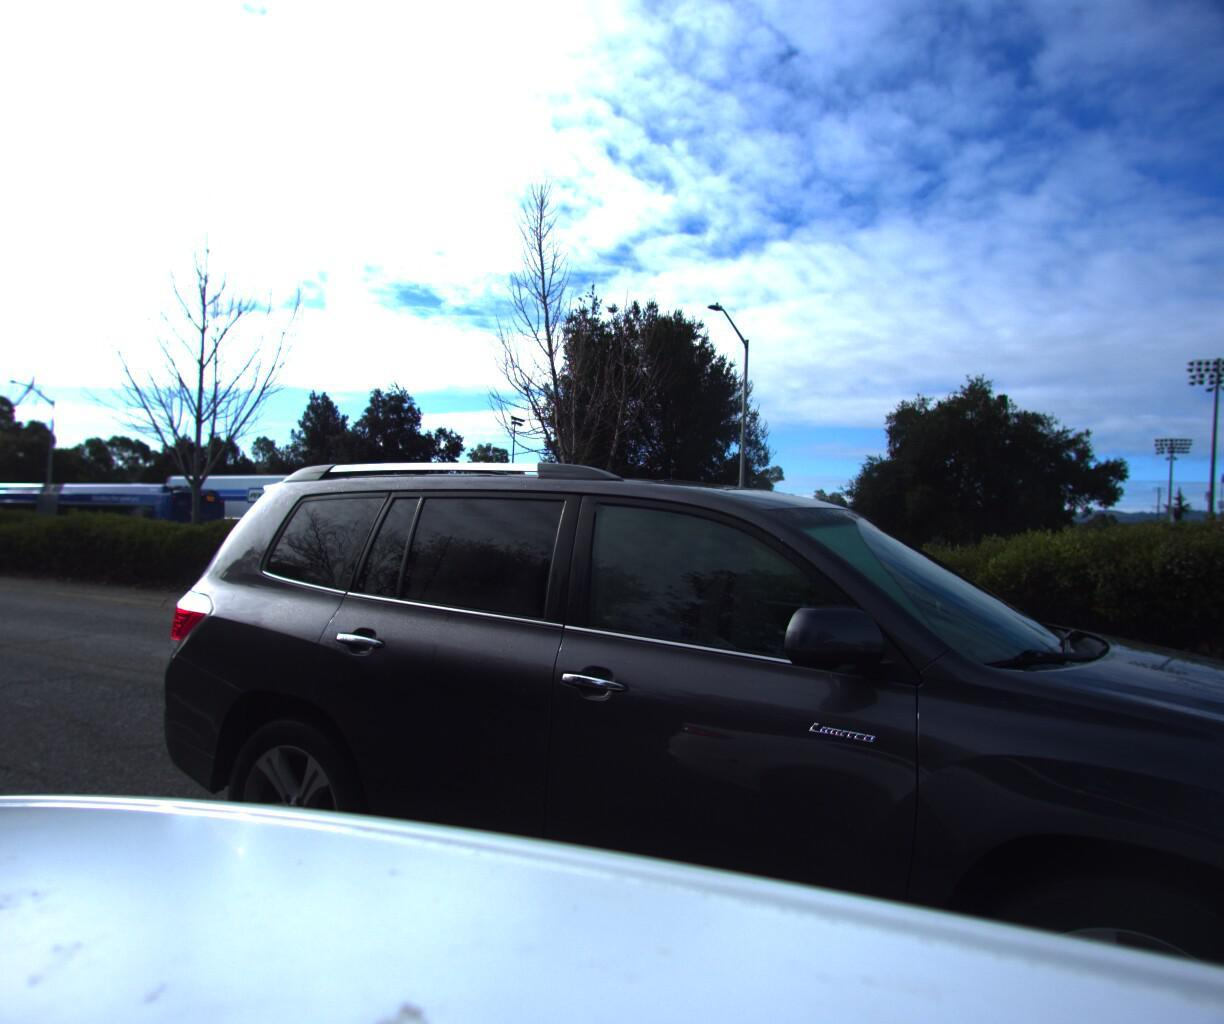bus: (0, 468, 237, 564)
car: (83, 399, 1224, 1024)
truck: (111, 457, 348, 582)
